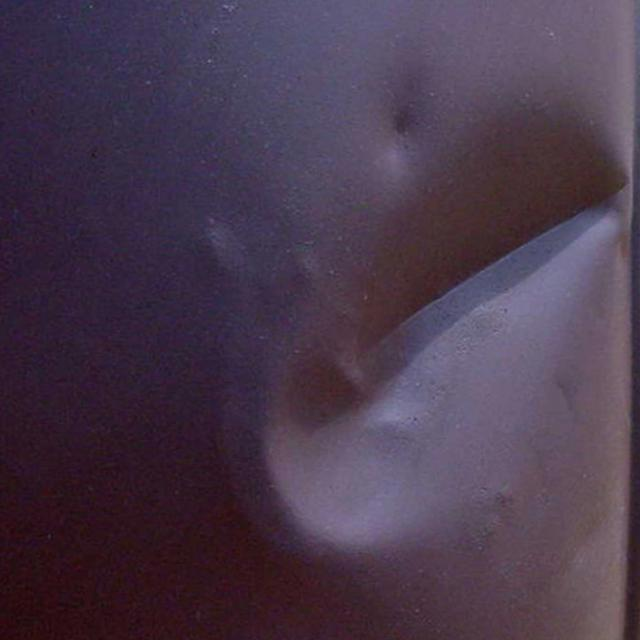dents: (204, 107, 638, 556), (364, 98, 522, 190)
